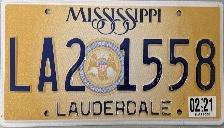1: (116, 37, 139, 93)
2: (62, 36, 89, 92)
5: (140, 37, 165, 92), (167, 37, 191, 92)
8: (193, 36, 218, 92)
A: (34, 36, 60, 94)
L: (8, 35, 33, 93)
